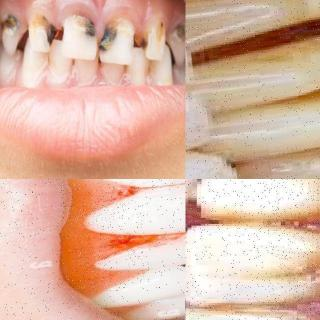Gum Swelling: (67, 180, 175, 282), (27, 0, 150, 41)
cavities: (100, 16, 136, 64), (64, 14, 98, 58), (138, 18, 166, 60), (26, 15, 56, 53), (0, 11, 22, 51), (170, 21, 186, 47)
stains: (251, 238, 320, 302), (287, 178, 320, 219)
